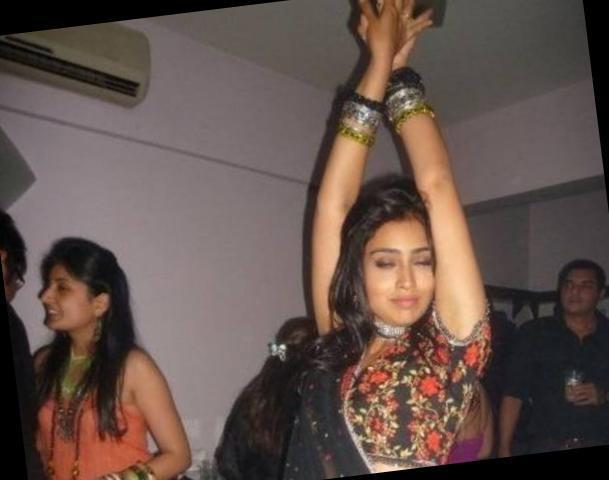Drunk: (372, 225, 431, 324)
